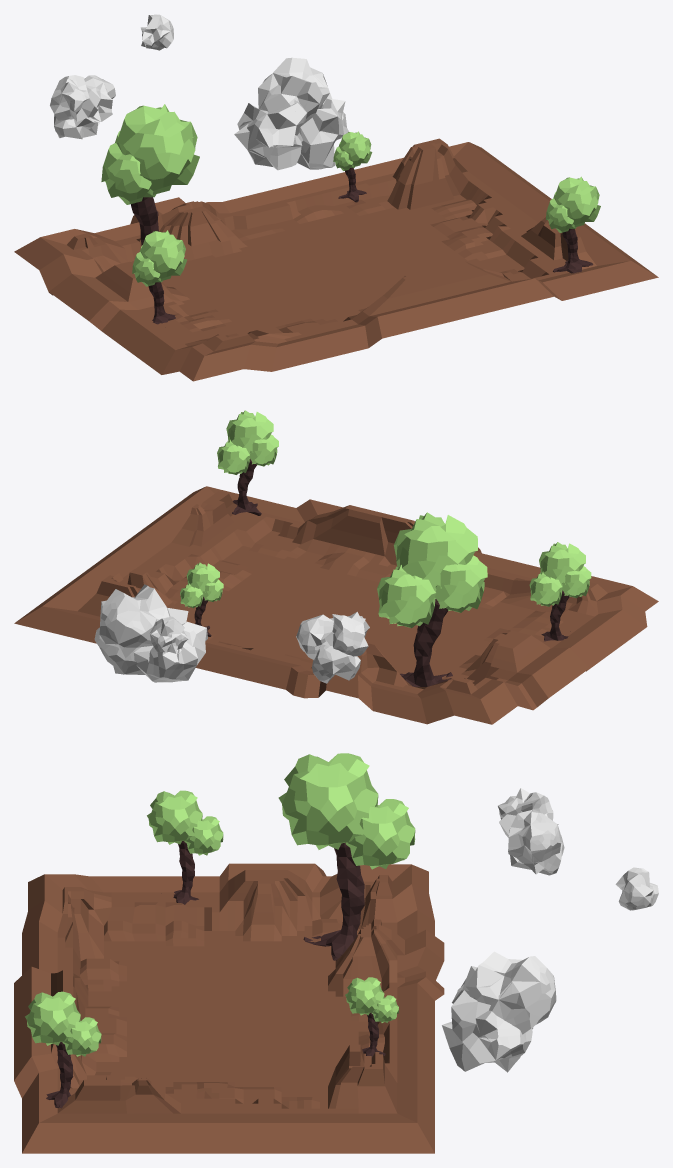
File: game_environment.gltf
3 views of the same model, one above another, from view 1: azimuth 30°, elevation 25°; view 2: azimuth 150°, elevation 25°; view 3: azimuth 270°, elevation 25° (orthographic). The views are drawn at different scales.
Parts seen in each view (by area): view 1: field, Plane.008, Icosphere.002, Icosphere.003, Plane.009, Plane.011, Icosphere.001, Icosphere.005, Plane.010, Icosphere.004, Icosphere.007, Icosphere.006; view 2: field, Plane.008, Plane.009, Plane.011, Icosphere.003, Icosphere.002, Plane.010, Icosphere.005, Icosphere.006, Icosphere.004, Icosphere.007, Icosphere.001; view 3: field, Plane.008, Icosphere.003, Icosphere.001, Plane.009, Plane.011, Icosphere.004, Plane.010, Icosphere.007, Icosphere.005, Icosphere.006.
Boxes of the visible parts, <box> form: field: <box>14,138,658,381</box>; Plane.008: <box>101,104,199,258</box>; Icosphere.002: <box>234,100,307,170</box>; Icosphere.003: <box>258,57,332,118</box>; Plane.009: <box>546,176,600,273</box>; Plane.011: <box>132,230,186,324</box>; Icosphere.001: <box>297,98,348,169</box>; Icosphere.005: <box>50,75,98,121</box>; Plane.010: <box>333,131,372,202</box>; Icosphere.004: <box>84,75,115,121</box>; Icosphere.007: <box>140,14,173,50</box>; Icosphere.006: <box>54,114,99,139</box>; field: <box>14,486,658,724</box>; Plane.008: <box>377,512,487,686</box>; Plane.009: <box>217,410,278,515</box>; Plane.011: <box>529,542,591,641</box>; Icosphere.003: <box>99,584,170,657</box>; Icosphere.002: <box>134,608,207,682</box>; Plane.010: <box>180,562,223,636</box>; Icosphere.005: <box>325,611,369,656</box>; Icosphere.006: <box>312,641,360,683</box>; Icosphere.004: <box>296,614,333,659</box>; Icosphere.007: <box>149,616,188,653</box>; Icosphere.001: <box>94,627,145,674</box>; field: <box>14,863,444,1153</box>; Plane.008: <box>278,753,415,960</box>; Icosphere.003: <box>465,951,556,1034</box>; Icosphere.001: <box>442,990,532,1072</box>; Plane.009: <box>25,991,101,1108</box>; Plane.011: <box>147,790,223,904</box>; Icosphere.004: <box>508,809,561,864</box>; Plane.010: <box>345,977,398,1057</box>; Icosphere.007: <box>615,867,658,910</box>; Icosphere.005: <box>498,788,553,837</box>; Icosphere.006: <box>510,835,564,875</box>.
Bounding box in the file's own units: 663 × 218 × 661.
13 materials, 1 textured.
